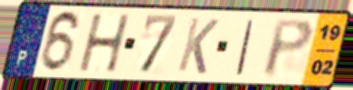6: (39, 8, 86, 75)
7: (138, 13, 181, 77)
H: (77, 12, 133, 74)
I: (234, 18, 257, 77)
K: (175, 15, 221, 77)
P: (261, 18, 316, 80)
